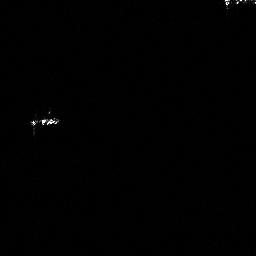ship: (27, 114, 63, 128)
